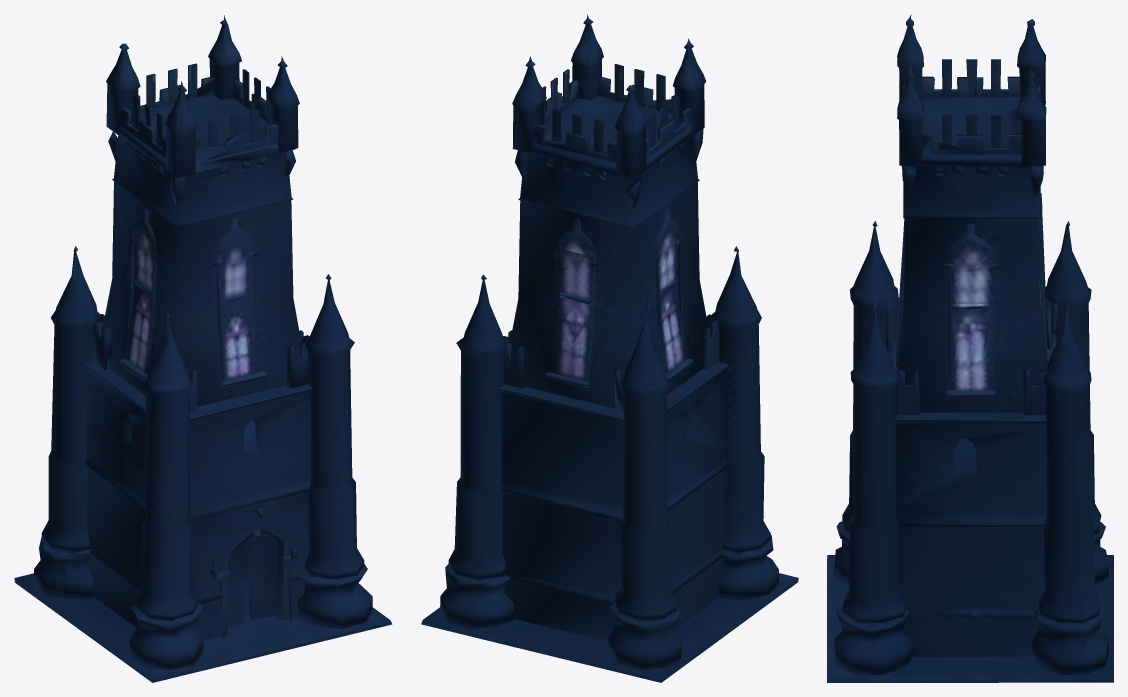
The model's file is tower.glb.
The picture shows the model from 3 angles, left to right: view 1: azimuth 30°, elevation 25°; view 2: azimuth 150°, elevation 25°; view 3: azimuth 270°, elevation 25°; orthographic projection. The views are drawn at different scales.
Size of the model in its own units: 0.4321 by 0.9526 by 0.4258.
1 material, 1 textured.
